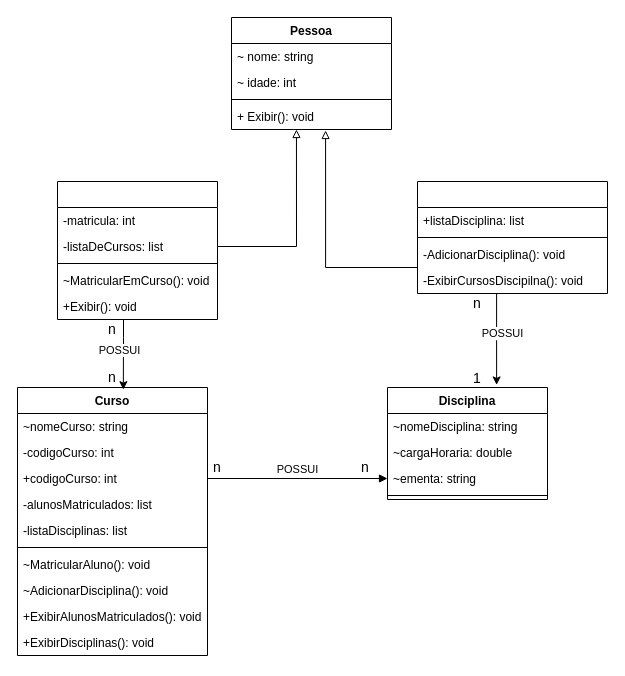
This 625x676 diagram has some shape labels left out. Each missing label, with the box of its shape:
Aluno: (56, 180, 218, 320)
Professor: (416, 180, 608, 294)
